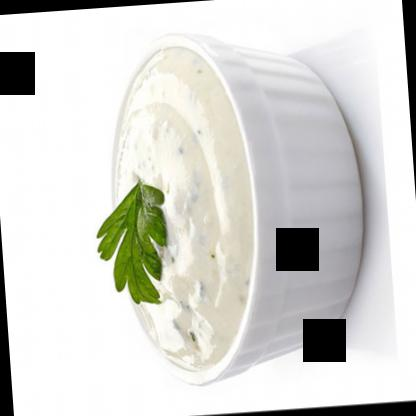yogurt: (104, 43, 266, 378)
